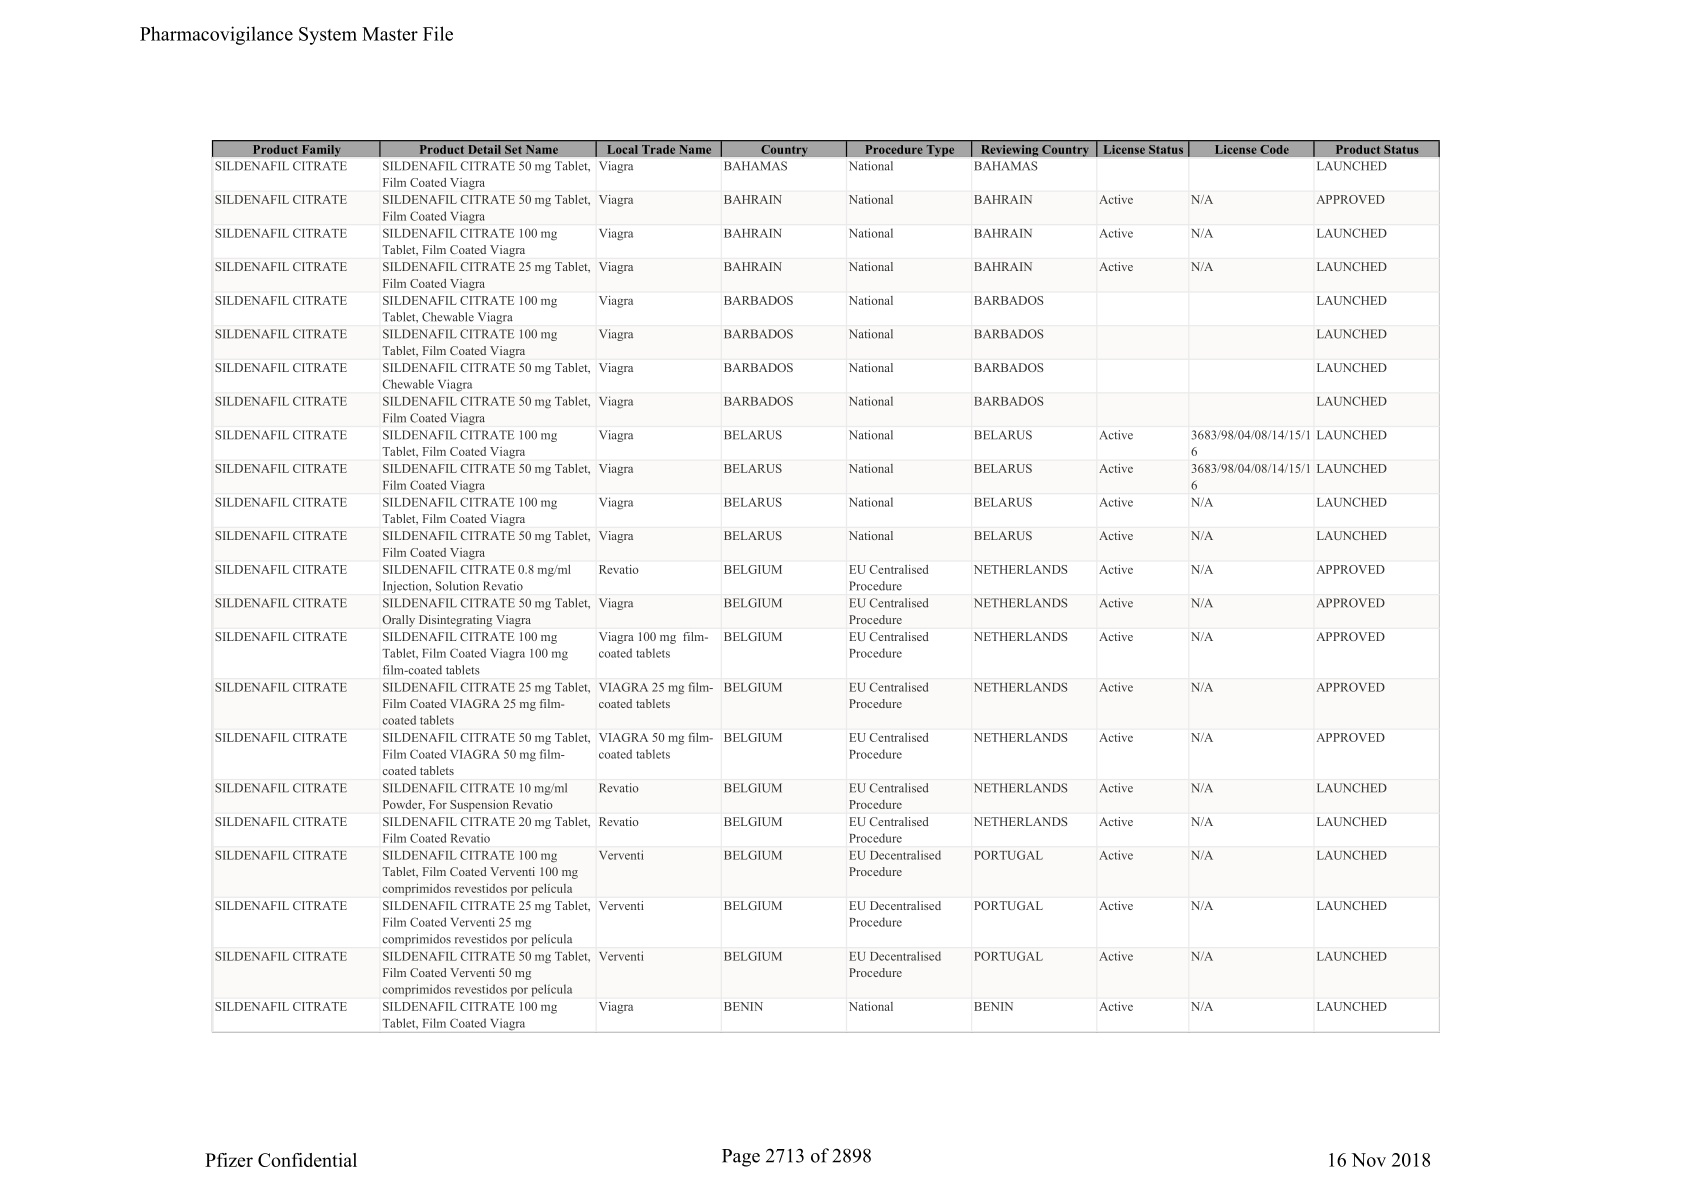full_lined: (211, 140, 1441, 1035)
